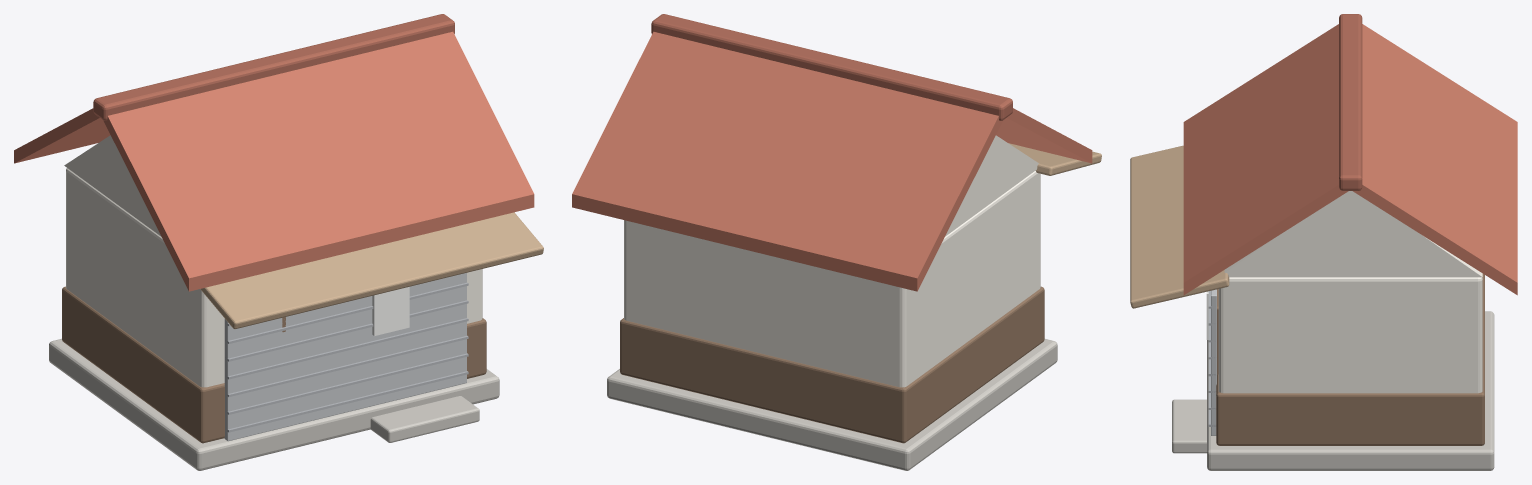
File: shop_closed.glb
3 renders of one model, left to right at view 1: azimuth 30°, elevation 25°; view 2: azimuth 150°, elevation 25°; view 3: azimuth 270°, elevation 25°, orthographic. The views are drawn at different scales.
Parts seen in each view (by area): view 1: shop_closed; view 2: shop_closed; view 3: shop_closed.
Boxes of the visible parts, x1,y1,x2,y2 form: shop_closed: [14, 14, 543, 470]; shop_closed: [572, 14, 1101, 470]; shop_closed: [1130, 14, 1517, 470].
Bounding box in the file's own units: 5 × 4.36 × 4.99.
